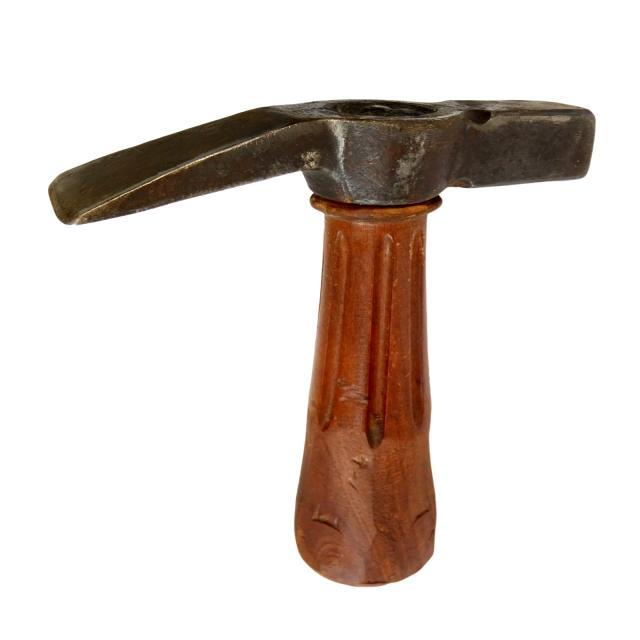hammer: (36, 92, 602, 592)
